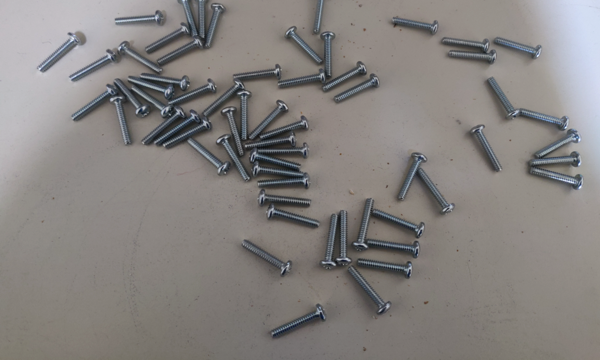longscrew: (239, 239, 295, 277), (350, 265, 391, 315), (269, 308, 329, 339), (486, 75, 522, 124), (414, 170, 455, 213), (36, 34, 81, 73), (471, 123, 506, 173), (69, 86, 117, 122), (167, 119, 211, 156), (186, 141, 231, 177), (140, 108, 184, 144), (155, 109, 199, 145), (200, 82, 249, 114), (394, 152, 428, 198), (116, 41, 162, 74), (532, 168, 586, 196), (69, 48, 114, 81), (374, 209, 427, 237), (357, 257, 415, 282), (363, 240, 421, 265), (219, 134, 249, 181), (250, 101, 289, 137), (130, 86, 173, 118), (534, 131, 584, 158), (336, 73, 382, 102), (168, 80, 215, 107), (284, 27, 320, 62), (115, 79, 147, 117), (159, 36, 202, 64), (147, 24, 187, 54), (323, 62, 365, 90), (496, 34, 543, 58), (523, 107, 570, 131), (111, 97, 134, 146), (259, 116, 314, 136), (225, 108, 246, 158), (320, 215, 339, 270), (355, 196, 374, 251), (251, 162, 305, 181), (250, 153, 303, 172), (259, 171, 312, 190), (259, 189, 312, 208), (268, 208, 321, 227), (334, 210, 352, 265), (128, 78, 174, 99), (144, 72, 190, 93), (208, 2, 230, 45), (318, 31, 339, 74), (280, 70, 329, 87), (256, 144, 315, 158), (189, 0, 211, 37), (112, 9, 166, 24), (234, 67, 283, 83), (389, 17, 438, 33), (441, 36, 490, 52), (176, 0, 198, 35), (450, 51, 498, 67), (243, 134, 302, 147), (312, 0, 333, 31), (524, 156, 584, 166)
